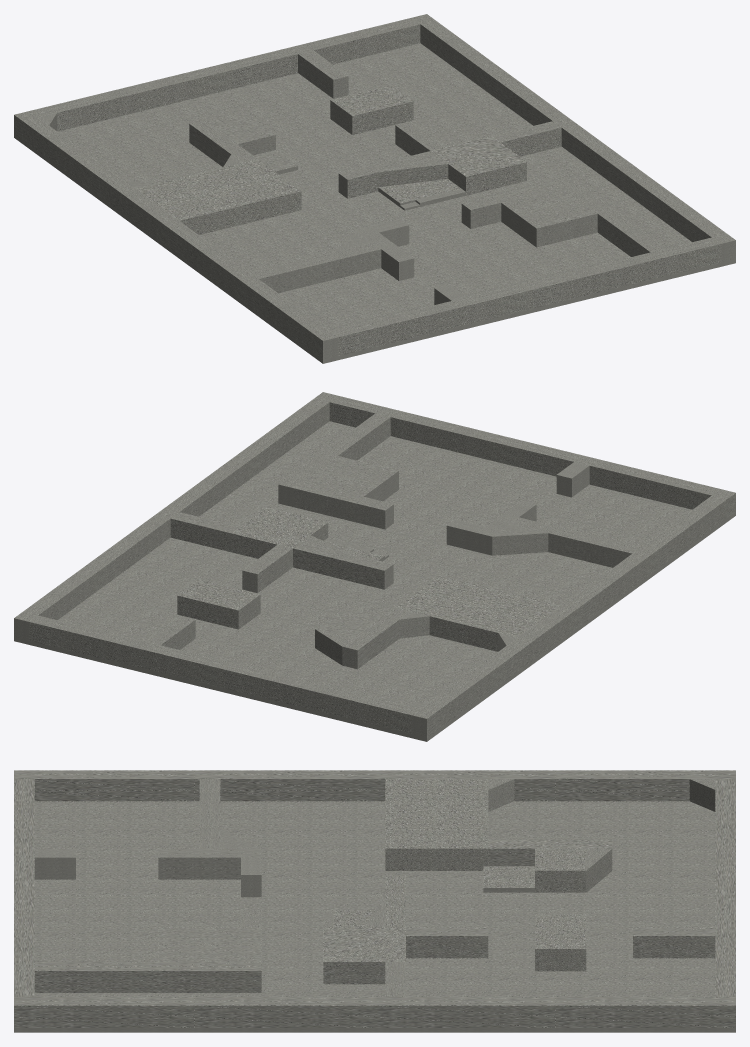
Rendered from UVdMap3Bottom.obj.
3 renders of one model, top to bottom at view 1: azimuth 30°, elevation 25°; view 2: azimuth 150°, elevation 25°; view 3: azimuth 270°, elevation 25°, orthographic. The views are drawn at different scales.
Parts seen in each view (by area): view 1: MAPforUOGPCGF.001, MAPforUOGPCGF; view 2: MAPforUOGPCGF.001, MAPforUOGPCGF; view 3: MAPforUOGPCGF.001, MAPforUOGPCGF.
Boxes of the visible parts, x1=… form: MAPforUOGPCGF.001: x1=14, y1=14, x2=735, y2=359; MAPforUOGPCGF: x1=14, y1=43, x2=735, y2=363; MAPforUOGPCGF.001: x1=14, y1=392, x2=735, y2=737; MAPforUOGPCGF: x1=14, y1=421, x2=735, y2=741; MAPforUOGPCGF.001: x1=14, y1=770, x2=735, y2=1027; MAPforUOGPCGF: x1=14, y1=801, x2=735, y2=1032.
Bounding box in the file's own units: 108 × 5.75 × 140.
Materials: 2 (2 with a texture image).
